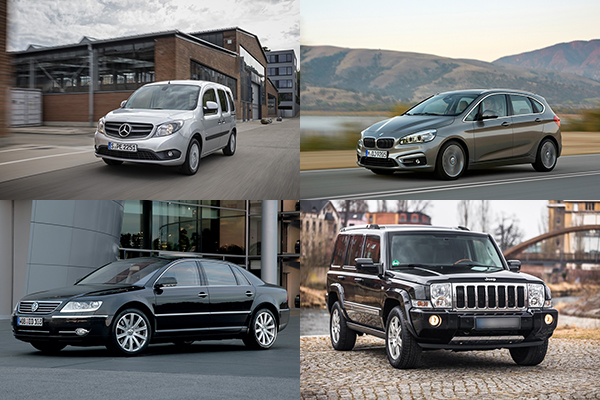araba: (332, 227, 558, 371), (7, 257, 291, 350), (356, 91, 562, 179), (92, 81, 238, 175)
